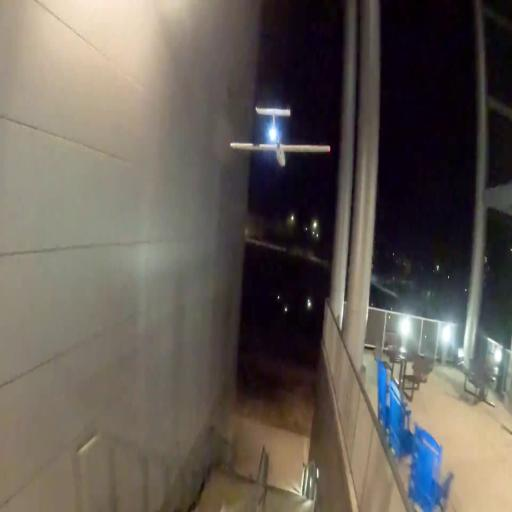uav: (228, 98, 334, 172)
